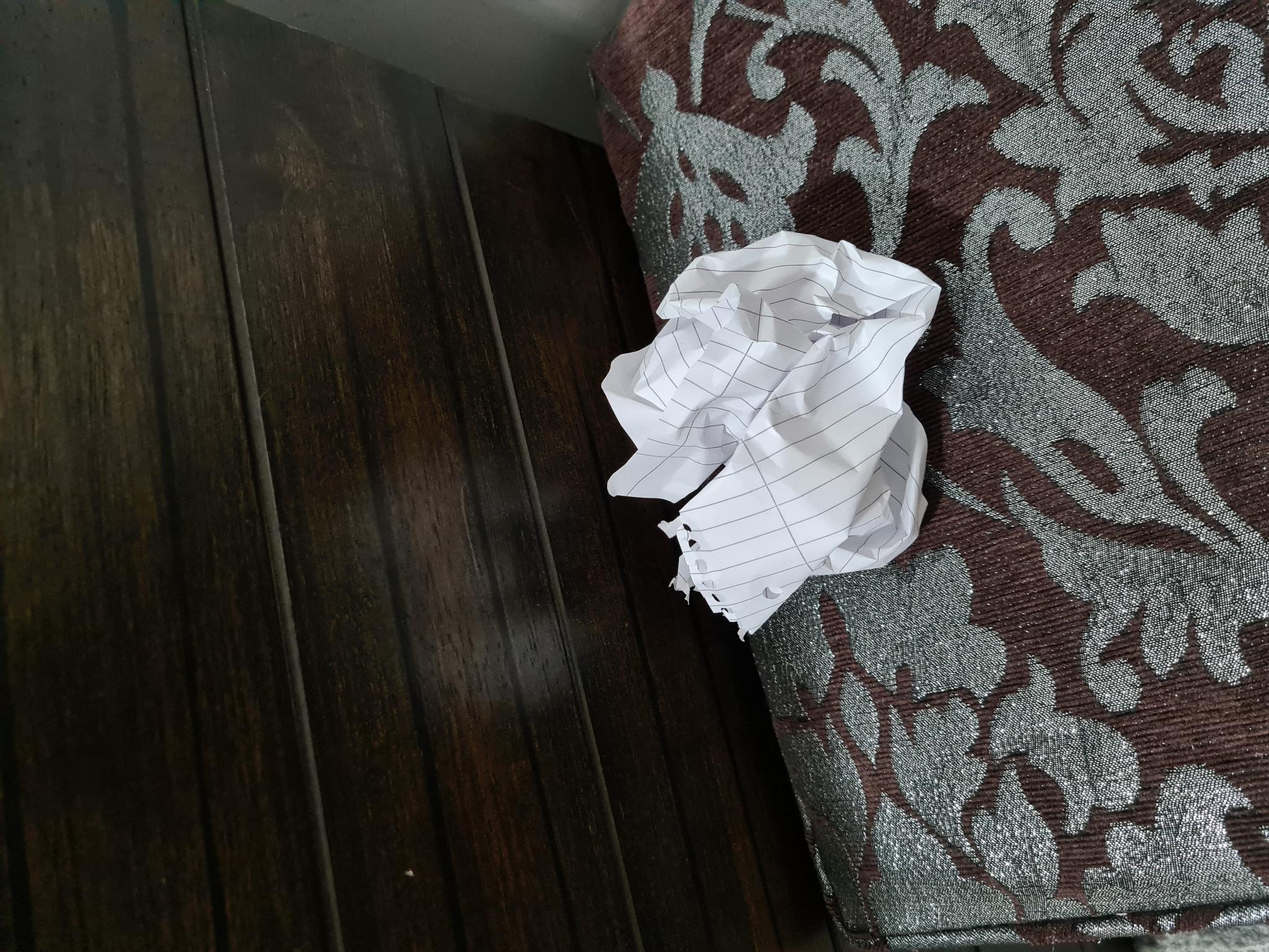Kertas: (379, 636, 709, 930)
